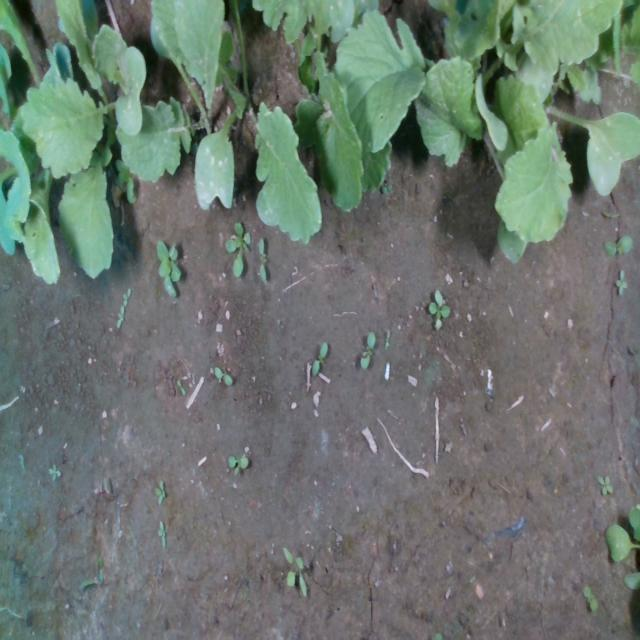weed: (155, 238, 183, 298), (224, 220, 250, 278), (282, 544, 308, 596), (426, 286, 450, 329), (601, 233, 633, 256), (359, 330, 375, 370), (226, 452, 248, 477), (311, 340, 327, 374), (256, 236, 266, 284), (612, 267, 628, 296), (582, 584, 598, 612), (596, 472, 614, 496), (212, 364, 232, 385), (154, 476, 166, 506), (156, 519, 166, 550), (47, 462, 61, 481), (599, 209, 622, 220), (116, 303, 124, 329), (123, 285, 131, 304)
